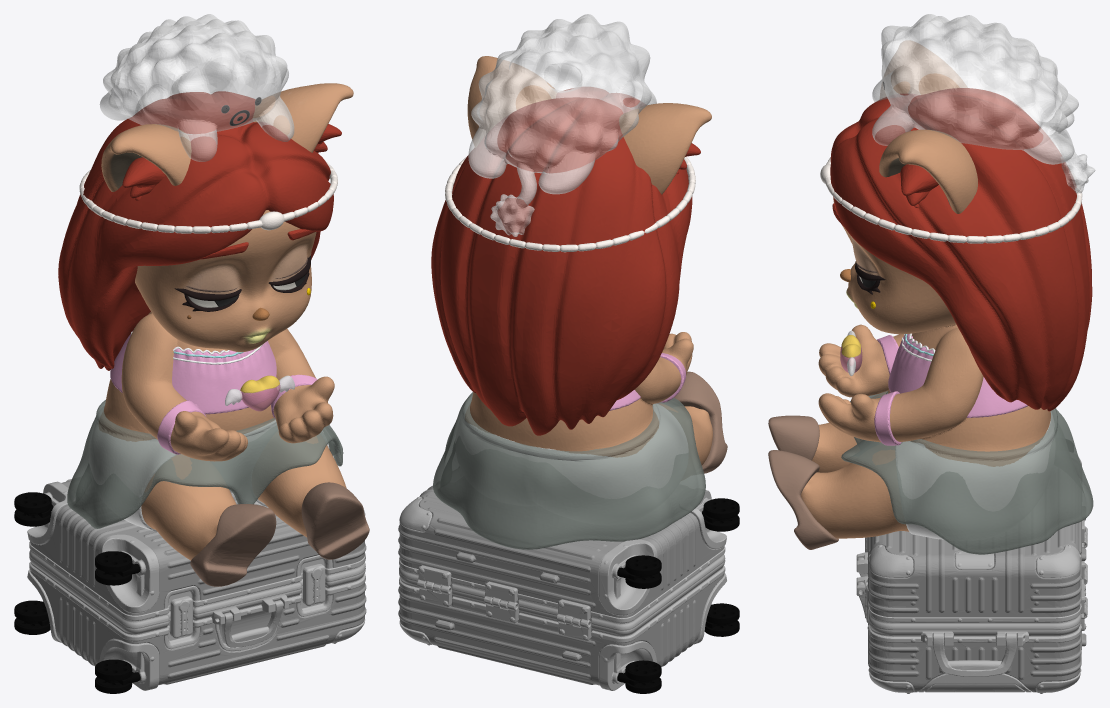
File: new_showcase1.glb
3 renders of one model, left to right at view 1: azimuth 30°, elevation 25°; view 2: azimuth 150°, elevation 25°; view 3: azimuth 270°, elevation 25°, orthographic. The views are drawn at different scales.
Visible parts, largest first — view 1: NFT Rare Hair 4, Brown_Yellowmakeup, NFT Normal Luggage 1 Silver, NFT Rare Bottom 5, Basic_Shoes_Beige, Top_Shirring_Babypink, Grey Brown Black, NFT Rare Heart; view 2: NFT Rare Hair 4, NFT Normal Luggage 1 Silver, NFT Rare Bottom 5, Brown_Yellowmakeup, Basic_Shoes_Beige, Top_Shirring_Babypink; view 3: NFT Rare Hair 4, Brown_Yellowmakeup, NFT Normal Luggage 1 Silver, NFT Rare Bottom 5, Basic_Shoes_Beige, Top_Shirring_Babypink, NFT Rare Heart, Grey Brown Black.
Part boxes in pixels (x1,y1,x2,y2): NFT Rare Hair 4: [58, 14, 341, 370]; Brown_Yellowmakeup: [99, 83, 353, 560]; NFT Normal Luggage 1 Silver: [14, 479, 366, 693]; NFT Rare Bottom 5: [67, 400, 343, 532]; Basic_Shoes_Beige: [190, 482, 369, 586]; Top_Shirring_Babypink: [110, 331, 317, 454]; Grey Brown Black: [174, 255, 310, 311]; NFT Rare Heart: [225, 375, 295, 411]; NFT Rare Hair 4: [431, 14, 700, 435]; NFT Normal Luggage 1 Silver: [398, 485, 739, 693]; NFT Rare Bottom 5: [433, 392, 705, 549]; Brown_Yellowmakeup: [465, 56, 712, 465]; Basic_Shoes_Beige: [674, 371, 727, 473]; Top_Shirring_Babypink: [609, 353, 685, 410]; NFT Rare Hair 4: [820, 14, 1095, 411]; Brown_Yellowmakeup: [801, 40, 1050, 538]; NFT Normal Luggage 1 Silver: [856, 457, 1087, 693]; NFT Rare Bottom 5: [841, 391, 1093, 554]; Basic_Shoes_Beige: [768, 415, 838, 549]; Top_Shirring_Babypink: [874, 333, 1027, 445]; NFT Rare Heart: [840, 330, 862, 376]; Grey Brown Black: [855, 261, 885, 294].
Size of the model in its own units: 43.51 by 92.15 by 44.19.
14 materials, 1 textured.
